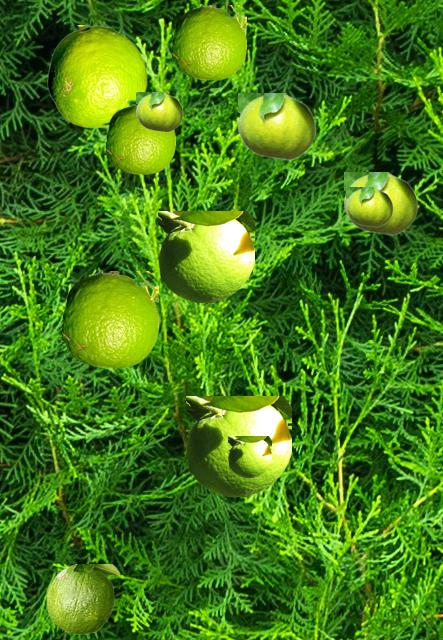dalandan: (186, 396, 290, 495), (47, 25, 146, 127), (62, 271, 157, 367), (158, 211, 253, 301), (172, 5, 245, 79), (238, 93, 315, 159), (46, 564, 119, 633), (106, 104, 174, 173), (344, 172, 417, 234), (346, 187, 392, 226), (136, 92, 182, 131), (228, 436, 270, 476)
